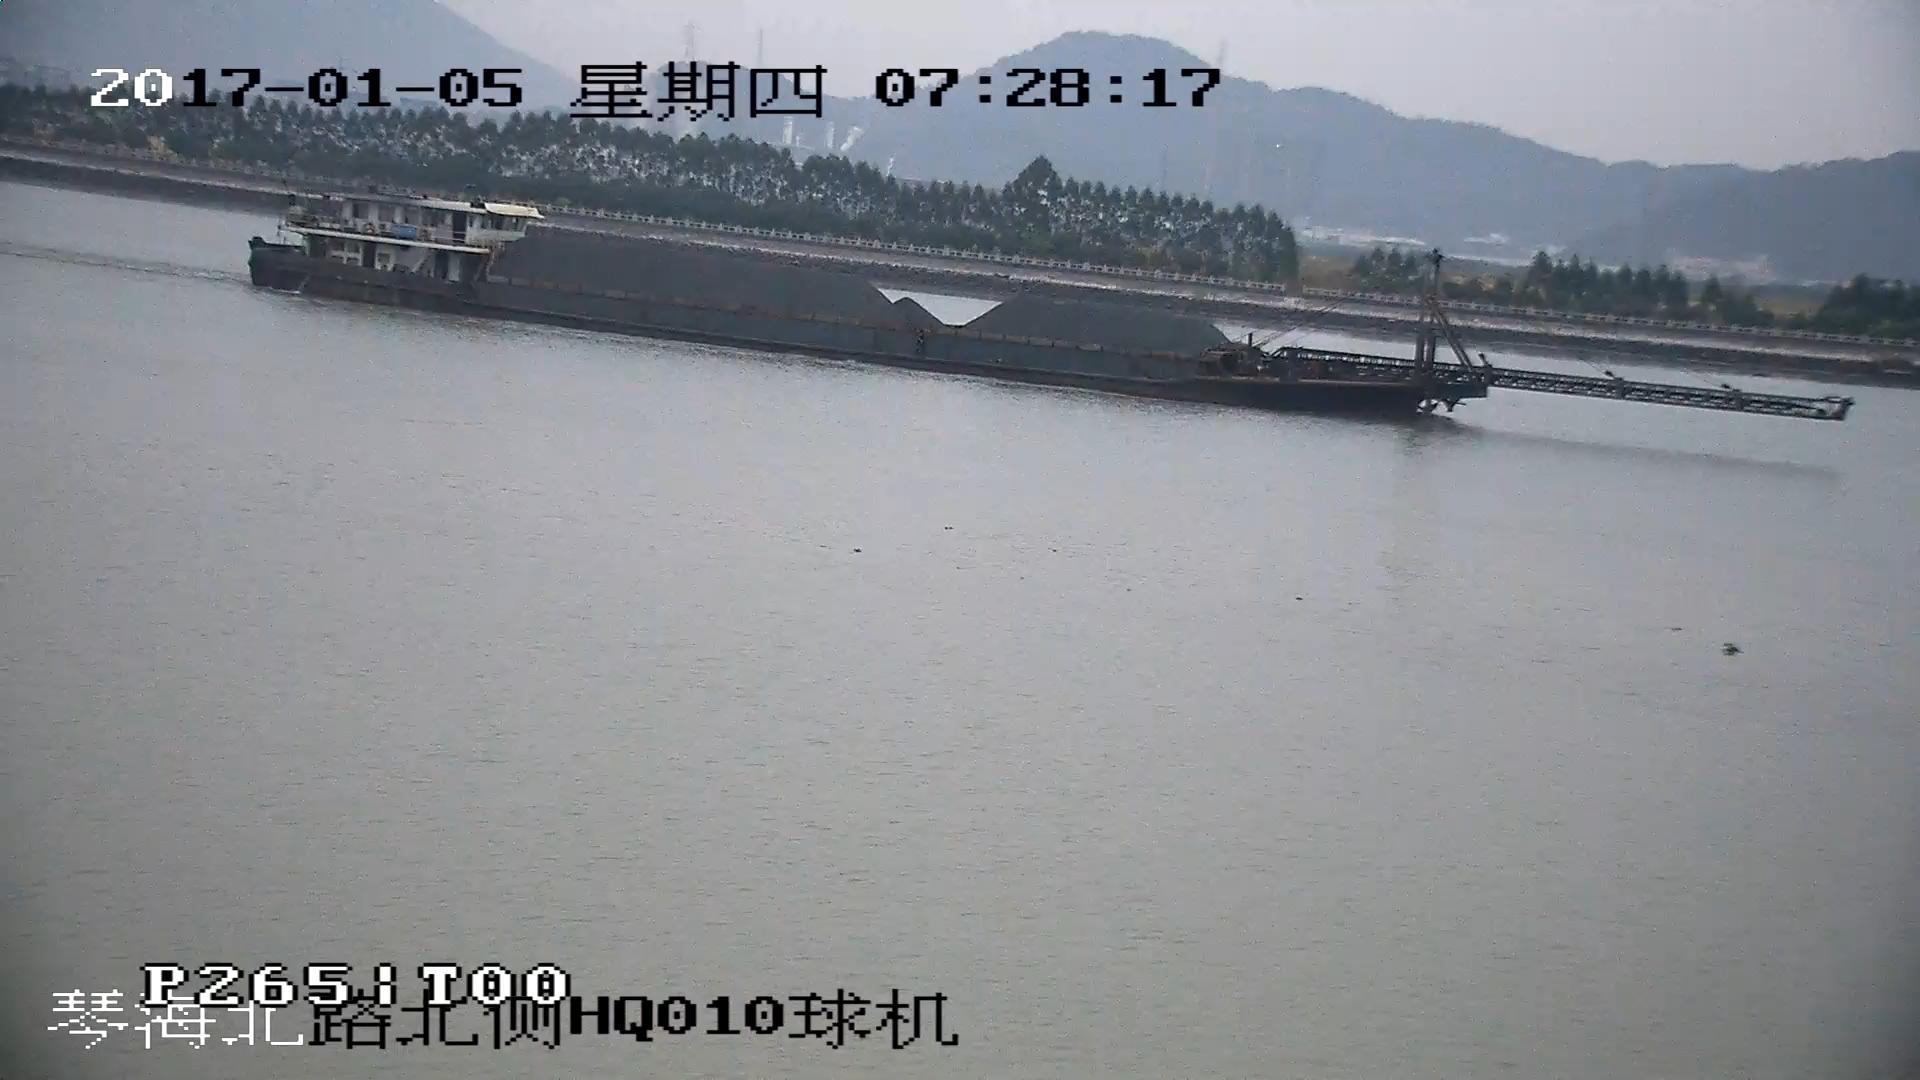ore carrier: (245, 187, 1845, 419)
